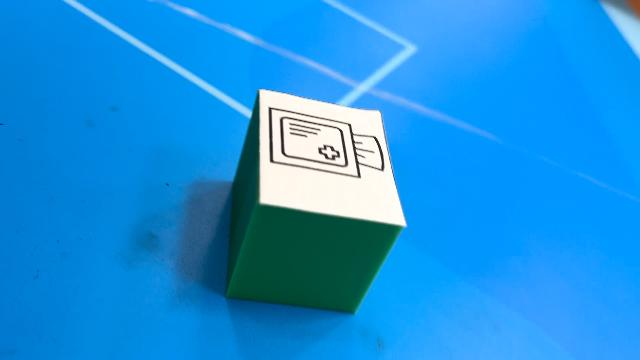napkin: (224, 87, 408, 315)
